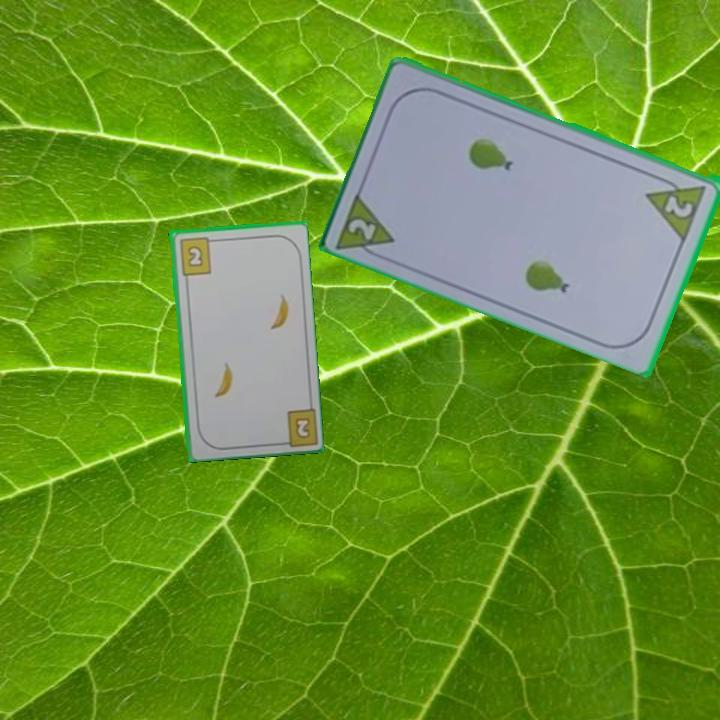2b: (176, 234, 218, 277), (291, 413, 313, 441)
2p: (643, 170, 710, 242), (345, 214, 380, 243)
